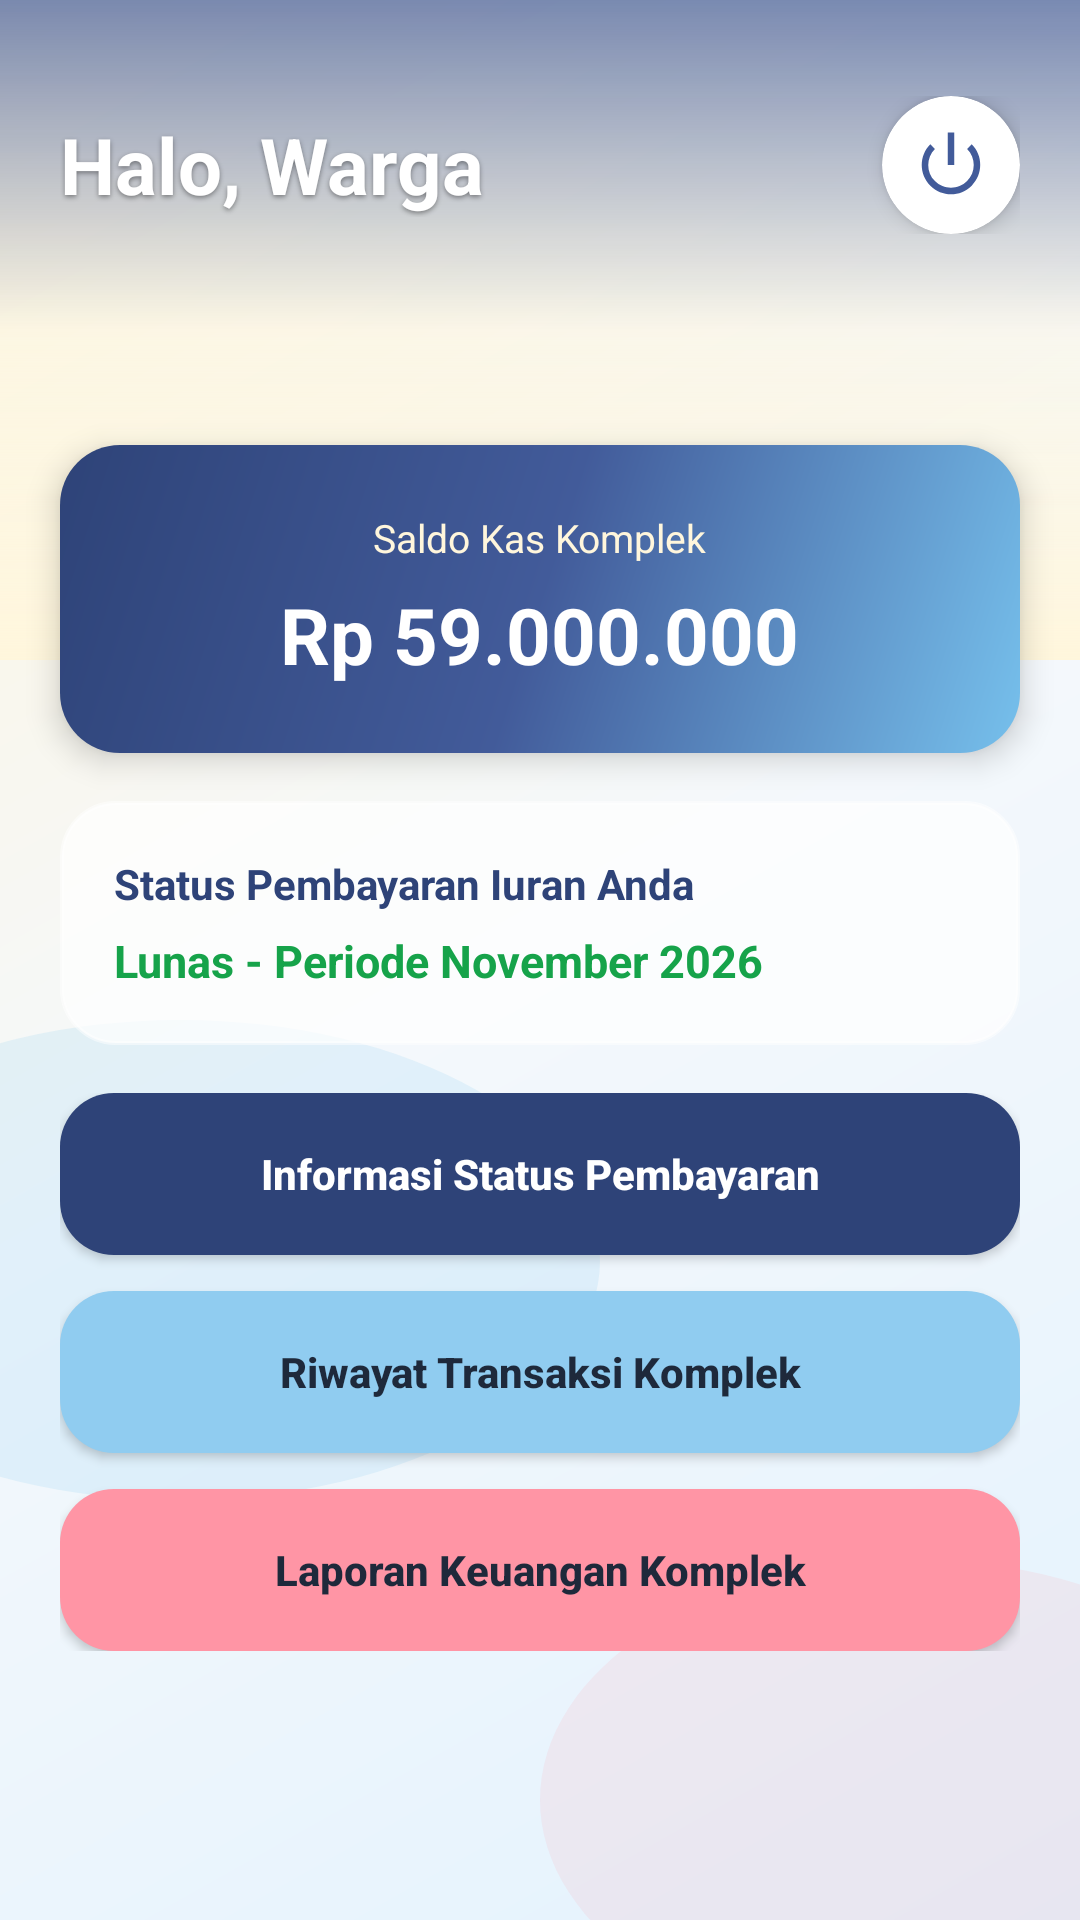

Screen size 1080*1920. Icon name, then its center in pixels as point (x, y):
Keluar: point (951, 165)
